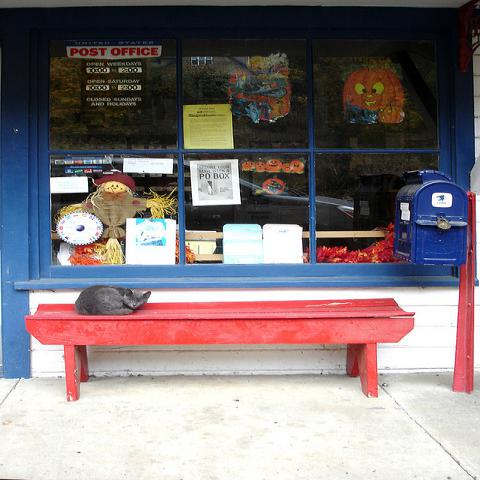car: (184, 158, 358, 234)
